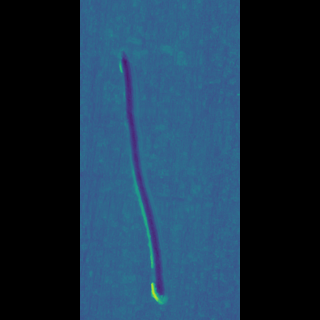Loch: (138, 45, 165, 306)
